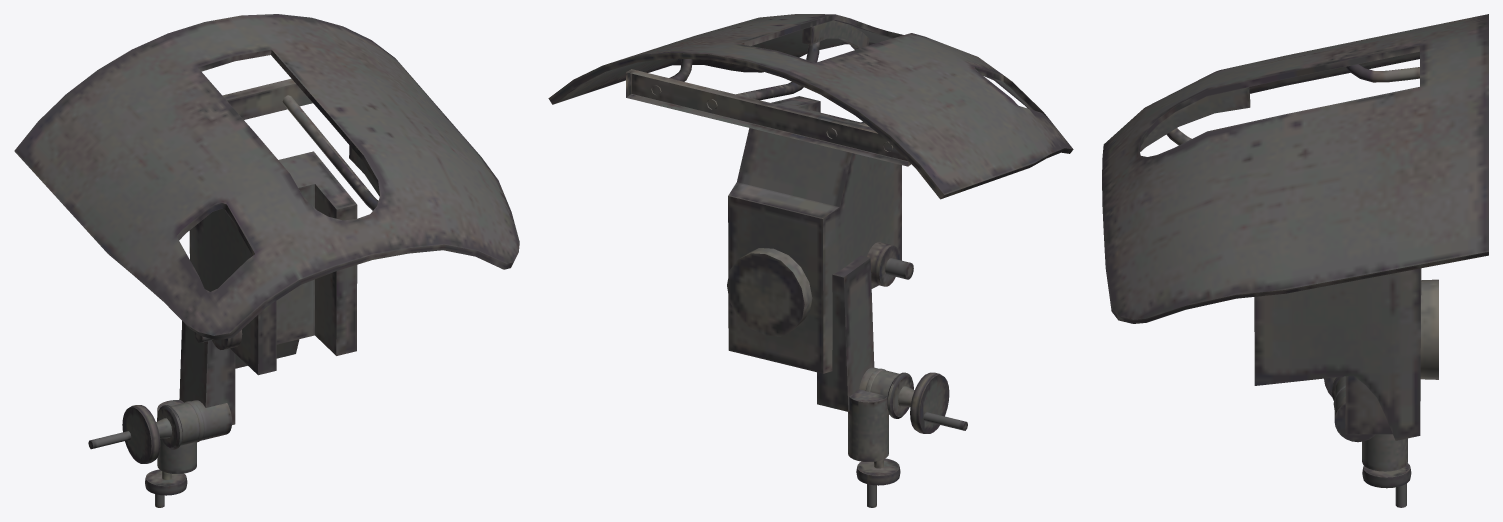
Rendered from Turret_01.glb.
3 renders of one model, left to right at view 1: azimuth 30°, elevation 25°; view 2: azimuth 150°, elevation 25°; view 3: azimuth 270°, elevation 25°, orthographic. The views are drawn at different scales.
Parts seen in each view (by area): view 1: set_0_group_0; view 2: set_0_group_0; view 3: set_0_group_0.
Part boxes in pixels (bbox=[...]): set_0_group_0: bbox=[14, 14, 519, 507]; set_0_group_0: bbox=[548, 14, 1073, 507]; set_0_group_0: bbox=[1102, 14, 1488, 507].
Bounding box in the file's own units: 0.8463 × 0.9248 × 0.6445.
Materials: 1 (1 with a texture image).
